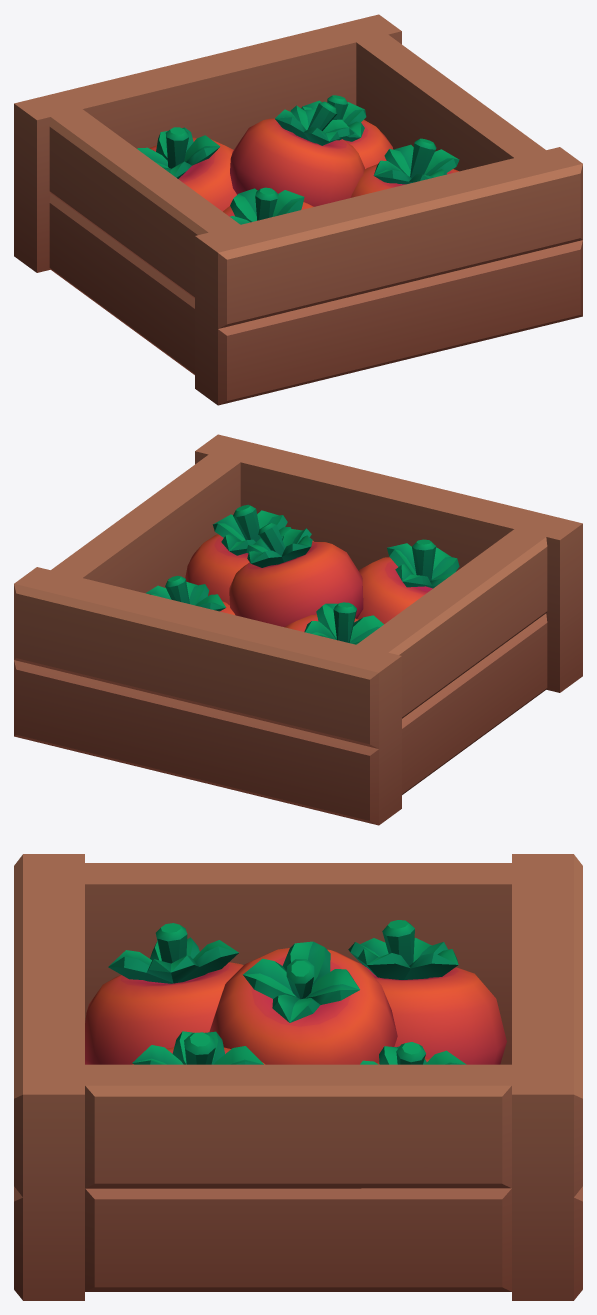
The model's file is re-crate_tomatoes.glb.
The picture shows the model from 3 angles, top to bottom: view 1: azimuth 30°, elevation 25°; view 2: azimuth 150°, elevation 25°; view 3: azimuth 270°, elevation 25°; orthographic projection. The views are drawn at different scales.
Parts seen in each view (by area): view 1: crate_tomatoes; view 2: crate_tomatoes; view 3: crate_tomatoes.
Part boxes in pixels (<box>): crate_tomatoes: <box>14,14,582,405</box>; crate_tomatoes: <box>14,434,582,825</box>; crate_tomatoes: <box>14,854,582,1300</box>.
Size of the model in its own units: 2 by 0.9233 by 2.
1 material, 1 textured.
